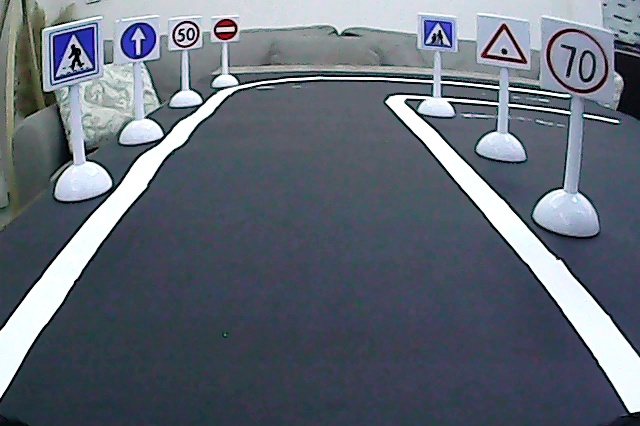do not enter: (212, 18, 240, 42)
green light: (478, 20, 530, 68)
pedestrian crossing: (48, 24, 101, 84)
school crossing: (420, 16, 455, 50)
speed limit 50: (171, 19, 201, 49)
speed limit 70: (543, 27, 611, 96)
